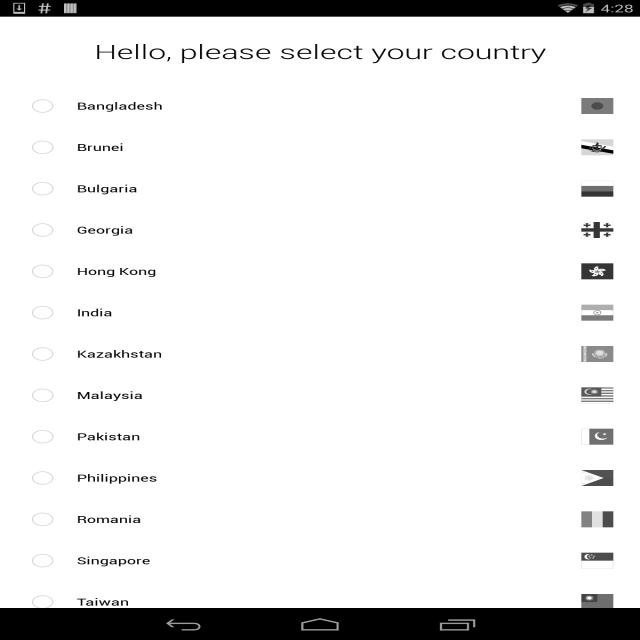ImageView: (570, 421, 623, 448), (572, 216, 622, 243), (572, 505, 622, 532), (569, 339, 616, 366), (572, 94, 616, 120)
RadioButton: (23, 178, 58, 201), (27, 507, 58, 530), (24, 96, 55, 114), (25, 427, 54, 445), (27, 303, 56, 320)
TextView: (88, 39, 553, 64), (71, 93, 175, 115), (71, 346, 180, 363), (74, 262, 163, 277), (72, 137, 135, 158), (72, 554, 160, 568), (72, 427, 143, 444)
